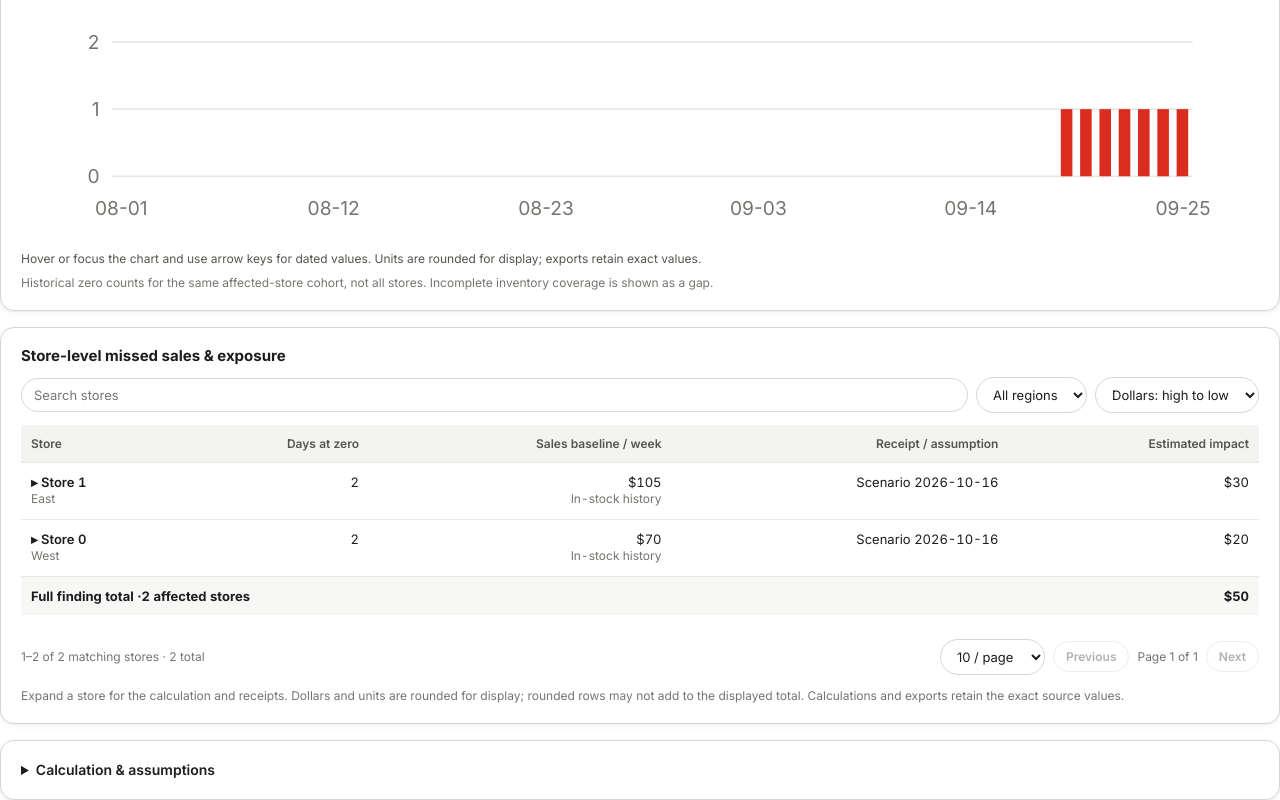
Scenario: supplied-style Details MVP › renders a reconciled z view with a labeled chart and expandable store
The width and height of the screenshot is (1280, 800).
(page scrolled)
Step 1. Click the button "▸ Store 1" → (59, 482), box x1=31 y1=474 x2=86 y2=490
(page scrolled)
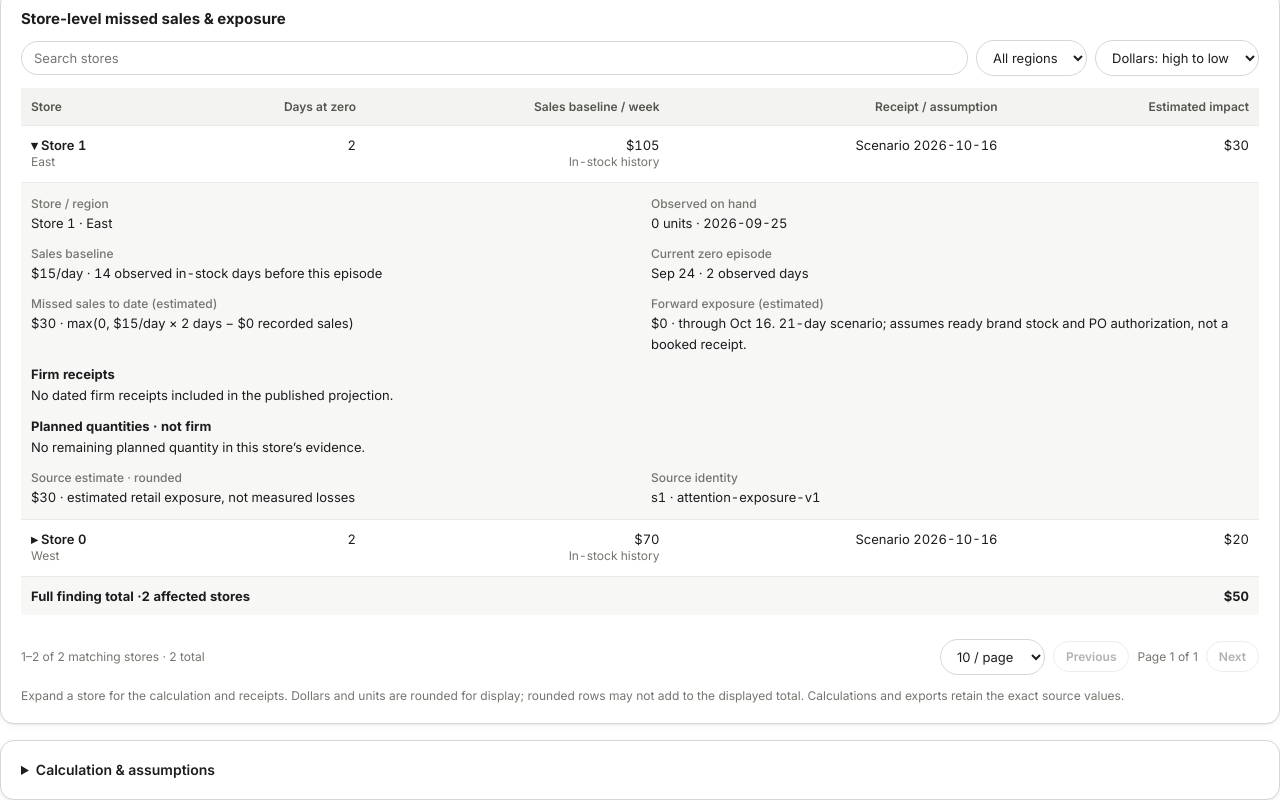
Now the button "▾ Store 1" is expanded, box x1=31 y1=137 x2=86 y2=153
Now the text "Source identity" is shown, box x1=651 y1=470 x2=738 y2=485
